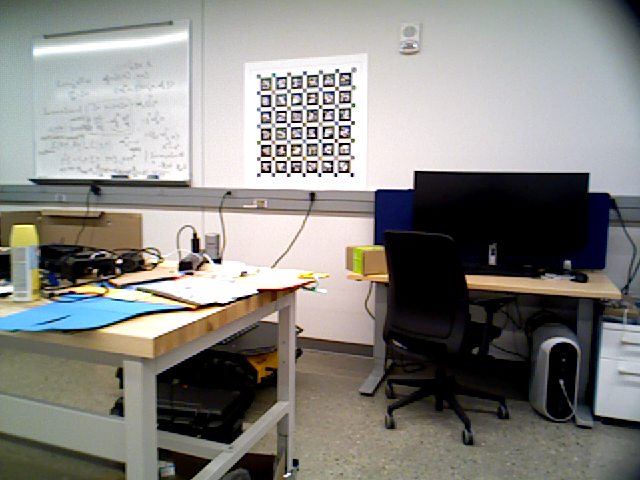painting4: (244, 54, 367, 188)
